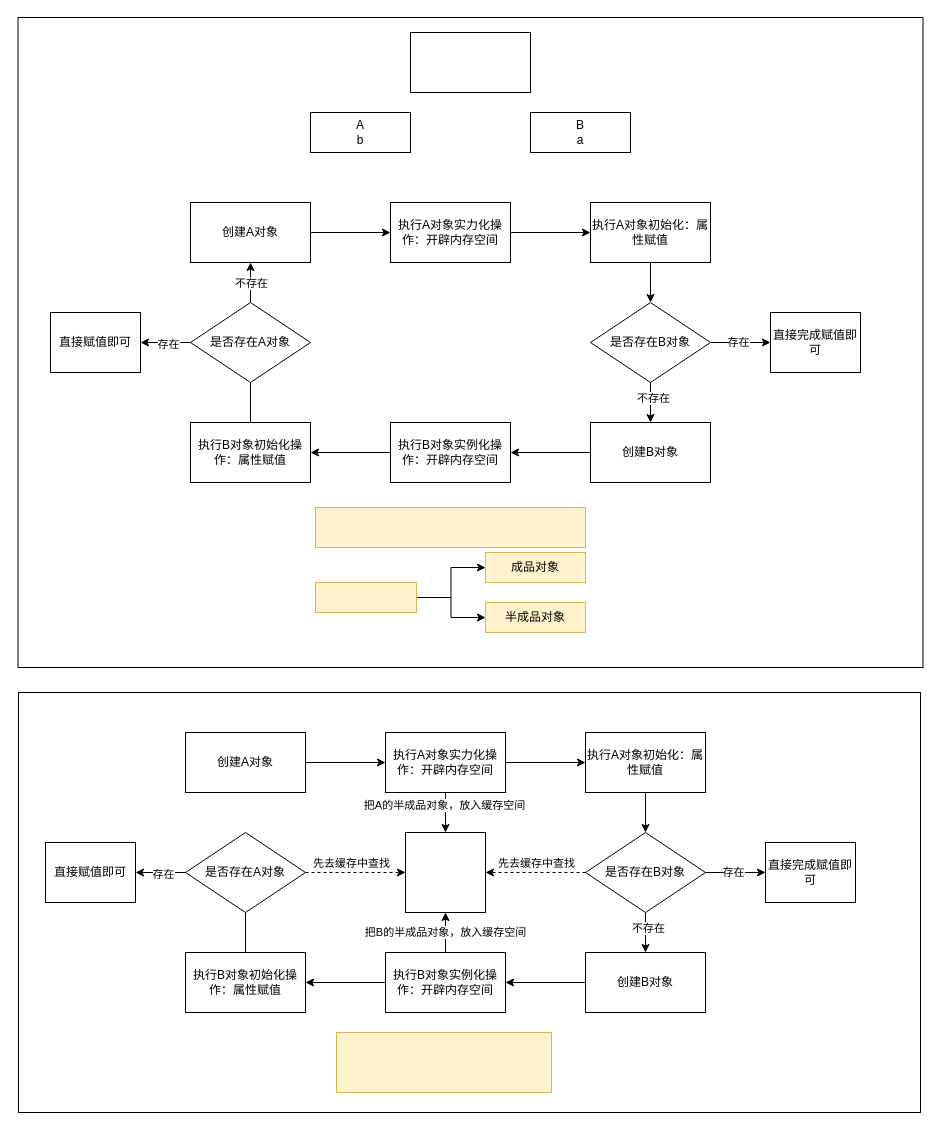
The diagram is 940 pixels wide and 1130 high, and some of its shapes have lost their labels. Here are the shapes that lost their labels. From the top down, the centre of each, then its label:
[470,62]: Spring循环依赖
[450,527]: 思路：对象的实例化和初始化是否可以分开执行 答：可以
[365,597]: 对象按照类型分类
[445,872]: 缓存空间 A：半 B：半 B：全 A：全
[444,1062]: 引入缓存空间，提前暴露半成品对象，解决循环依赖问题
